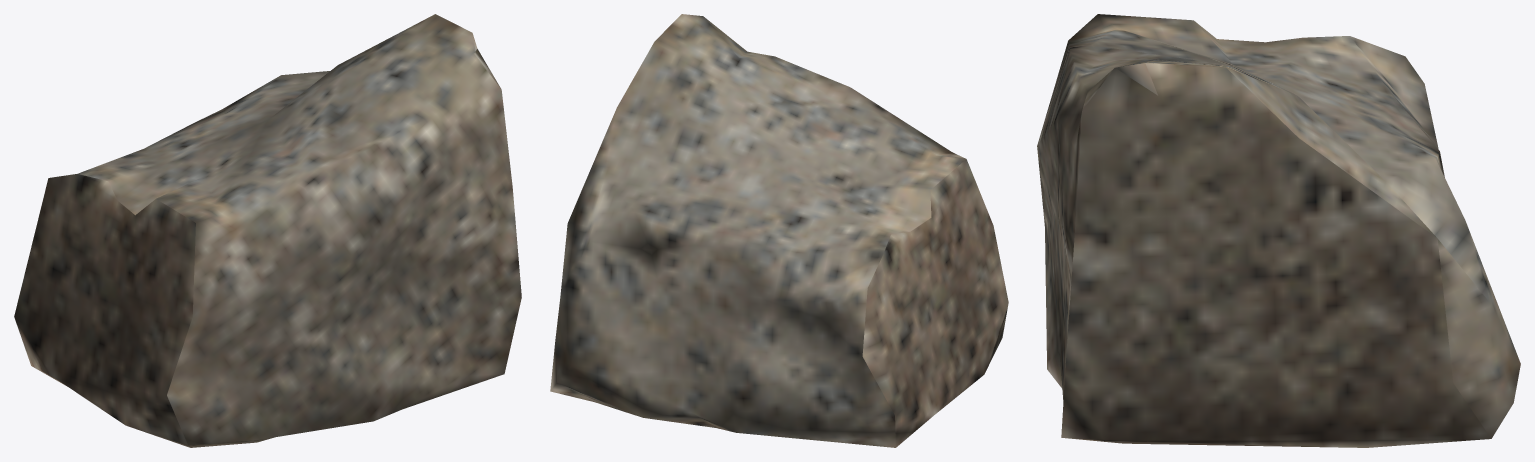
File: Concrete_Rubble8.fbx
The picture shows the model from 3 angles, left to right: view 1: azimuth 30°, elevation 25°; view 2: azimuth 150°, elevation 25°; view 3: azimuth 270°, elevation 25°; orthographic projection. The views are drawn at different scales.
Visible parts, largest first — view 1: Concrete_Rubble8; view 2: Concrete_Rubble8; view 3: Concrete_Rubble8.
Part boxes in pixels (left/top/right/bottom): Concrete_Rubble8: left=14, top=14, right=521, bottom=447; Concrete_Rubble8: left=550, top=14, right=1008, bottom=447; Concrete_Rubble8: left=1037, top=14, right=1520, bottom=447.
Bounding box in the file's own units: 5.79 × 4.95 × 5.55.
